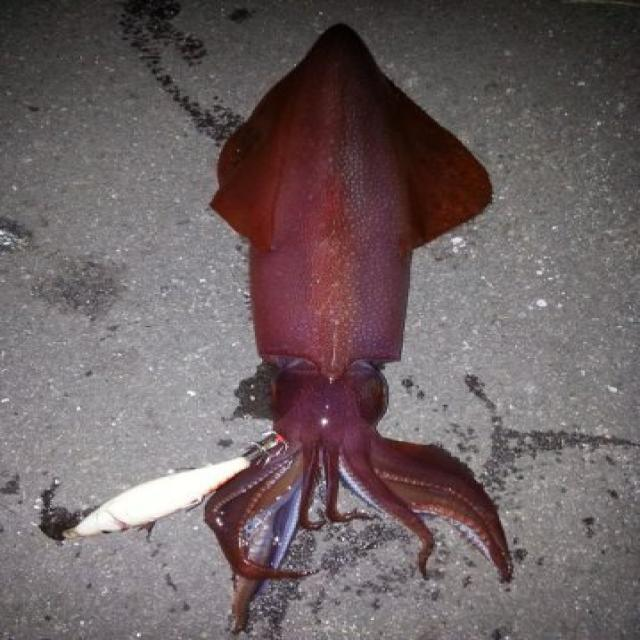SQUID: (198, 0, 528, 623)
